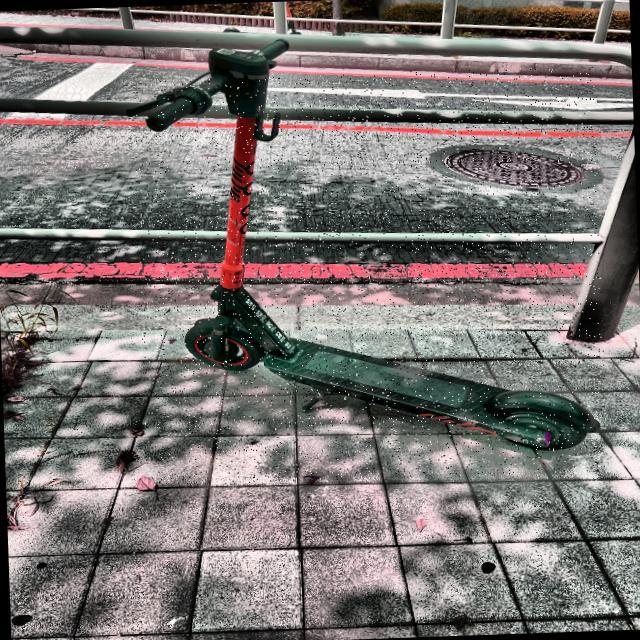bike: (63, 38, 599, 453)
